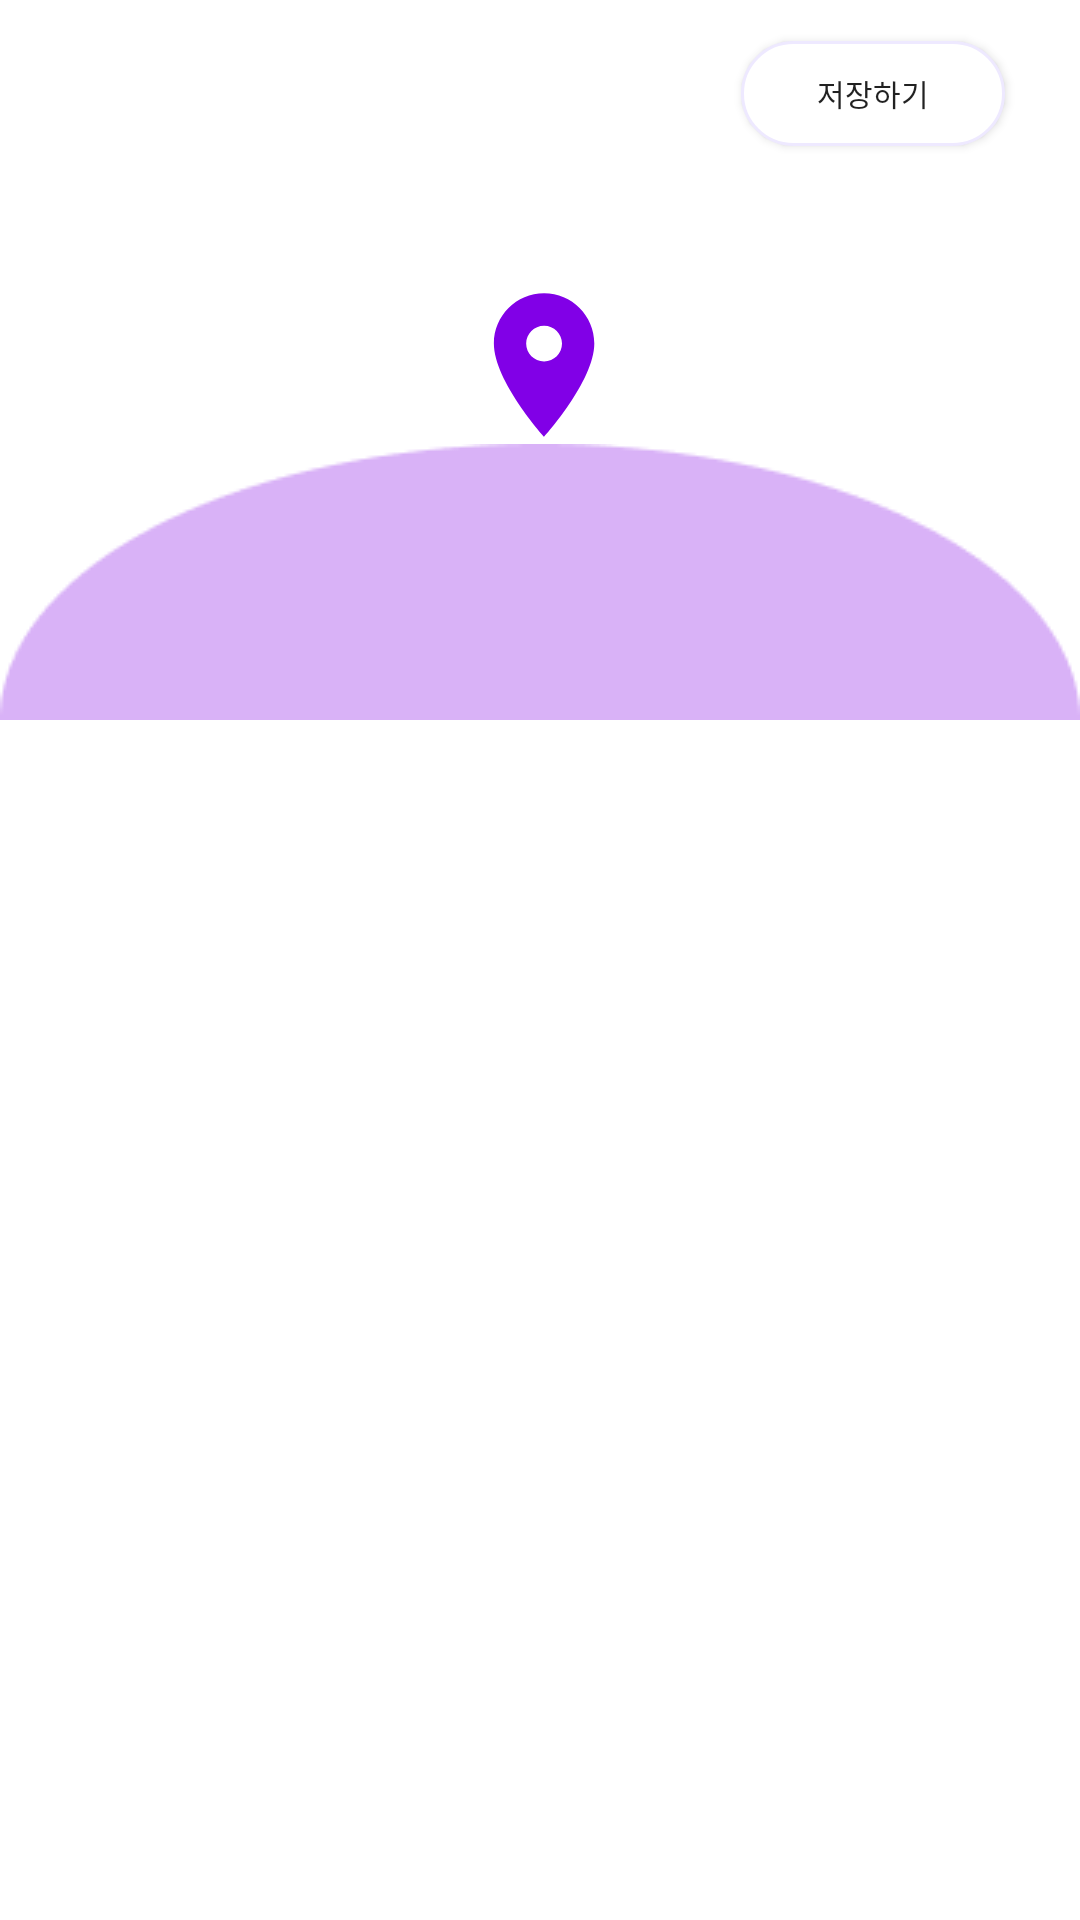

Icon click points for this 1080 x 1920 phone screenshot, format (x=x, y=y):
location on: (x=544, y=365)
